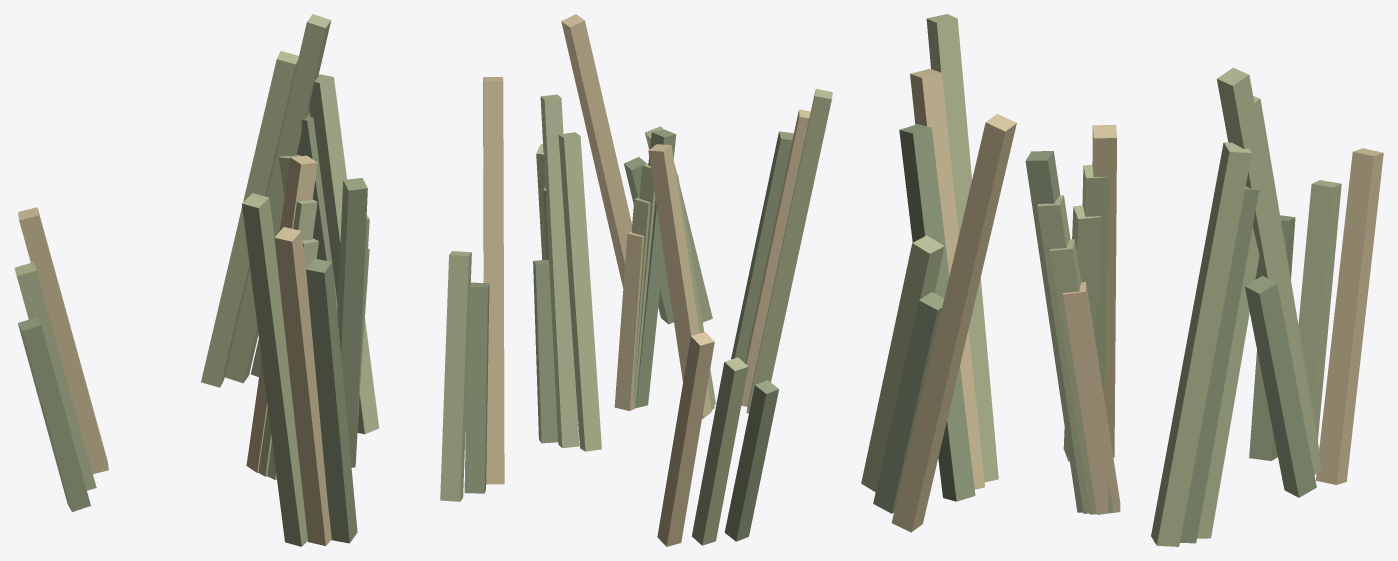
File: road_grass_cluster.glb
3 renders of one model, left to right at view 1: azimuth 30°, elevation 25°; view 2: azimuth 150°, elevation 25°; view 3: azimuth 270°, elevation 25°, orthographic. The views are drawn at different scales.
Parts seen in each view (by area): view 1: road_grass_cluster; view 2: road_grass_cluster; view 3: road_grass_cluster.
Boxes of the visible parts, x1,y1,x2,y2 form: road_grass_cluster: (14, 14, 504, 546); road_grass_cluster: (533, 14, 832, 546); road_grass_cluster: (861, 14, 1383, 546).
Size of the model in its own units: 0.8402 by 0.971 by 0.8945.
